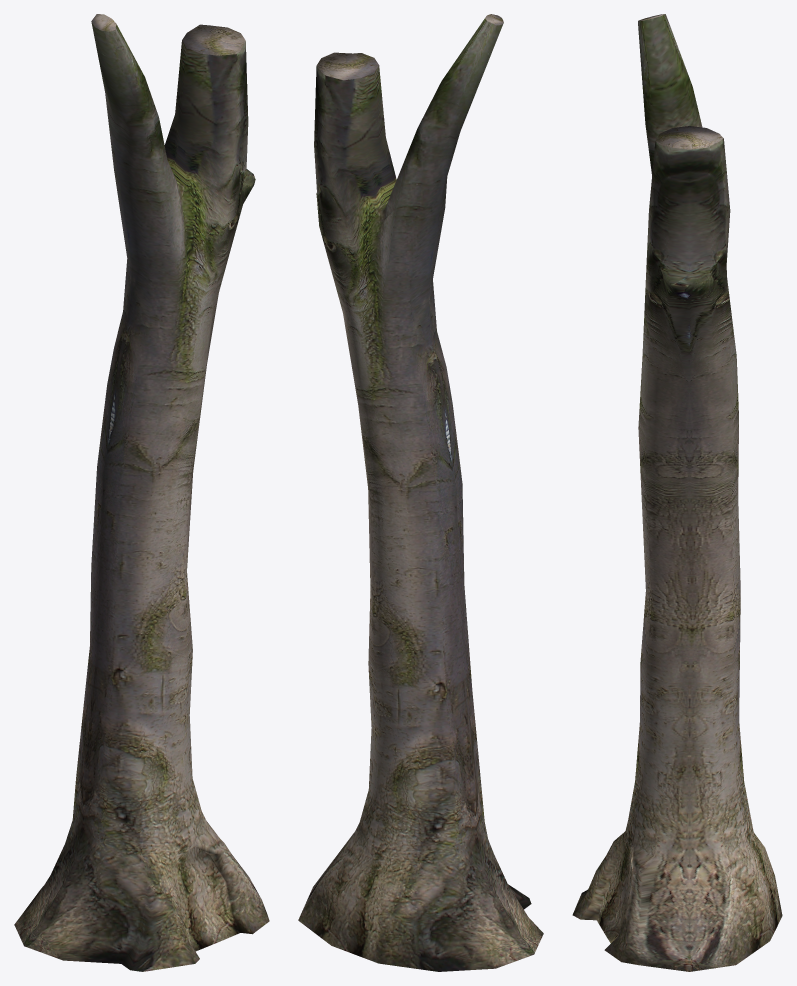
3 renders of one model, left to right at view 1: azimuth 30°, elevation 25°; view 2: azimuth 150°, elevation 25°; view 3: azimuth 270°, elevation 25°, orthographic. The views are drawn at different scales.
Parts seen in each view (by area): view 1: U3DMesh; view 2: U3DMesh; view 3: U3DMesh.
Boxes of the visible parts, left/top/right/bottom form: U3DMesh: left=14, top=14, right=269, bottom=971; U3DMesh: left=298, top=14, right=543, bottom=971; U3DMesh: left=572, top=14, right=782, bottom=971.
Bounding box in the file's own units: 95.99 × 369 × 79.84.
Materials: 1 (1 with a texture image).
